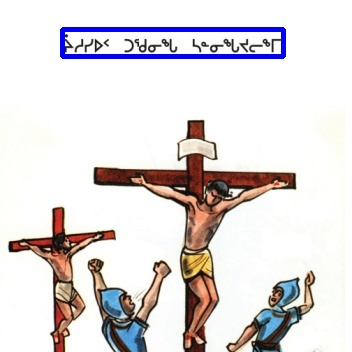inuktitut: (62, 29, 283, 56)
